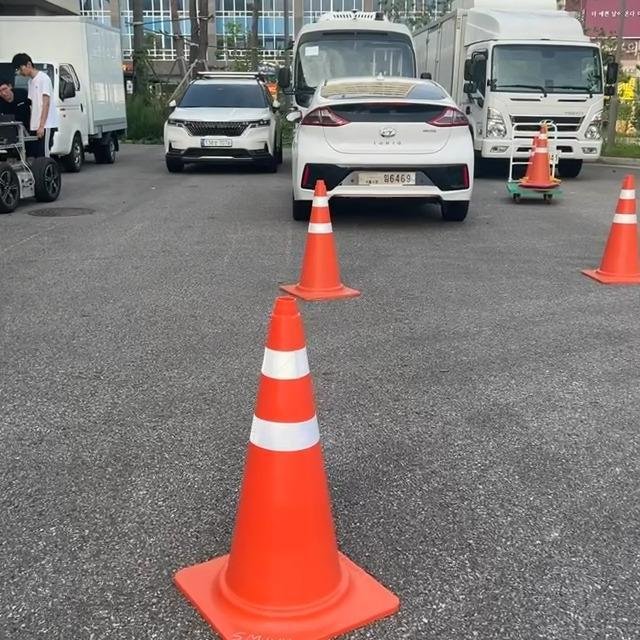fallen_object: (199, 273, 389, 638), (273, 167, 388, 308), (561, 141, 640, 318), (485, 102, 574, 185)
